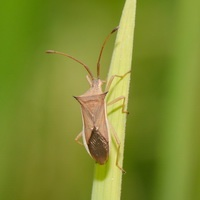insect: (45, 26, 130, 164)
